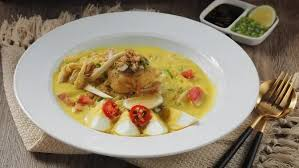soto: (42, 31, 231, 145)
